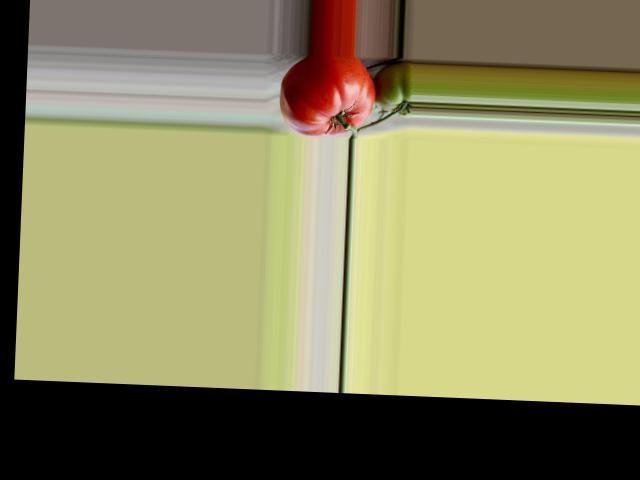tomato: (277, 52, 376, 138)
